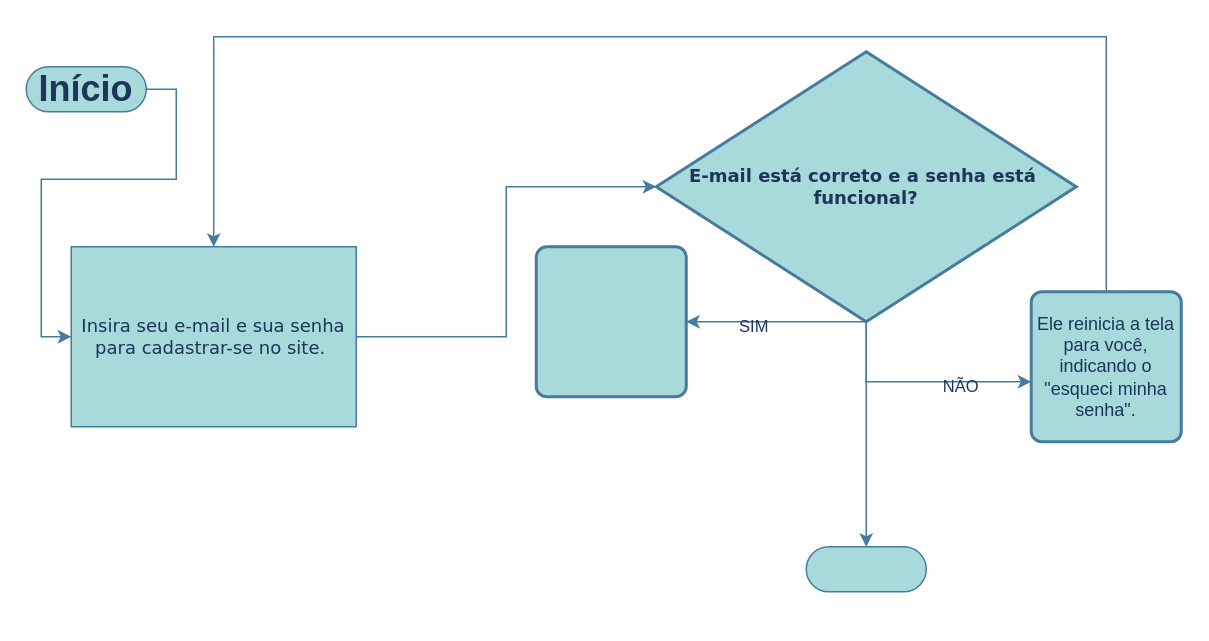
The diagram is 1209 pixels wide and 641 high, and some of its shapes have lost their labels. Here are the shapes that lost their labels. From the top down, the centre of each, then its label:
(610,321): O site gera a página inicial para o usuário.
(865,568): Fim
